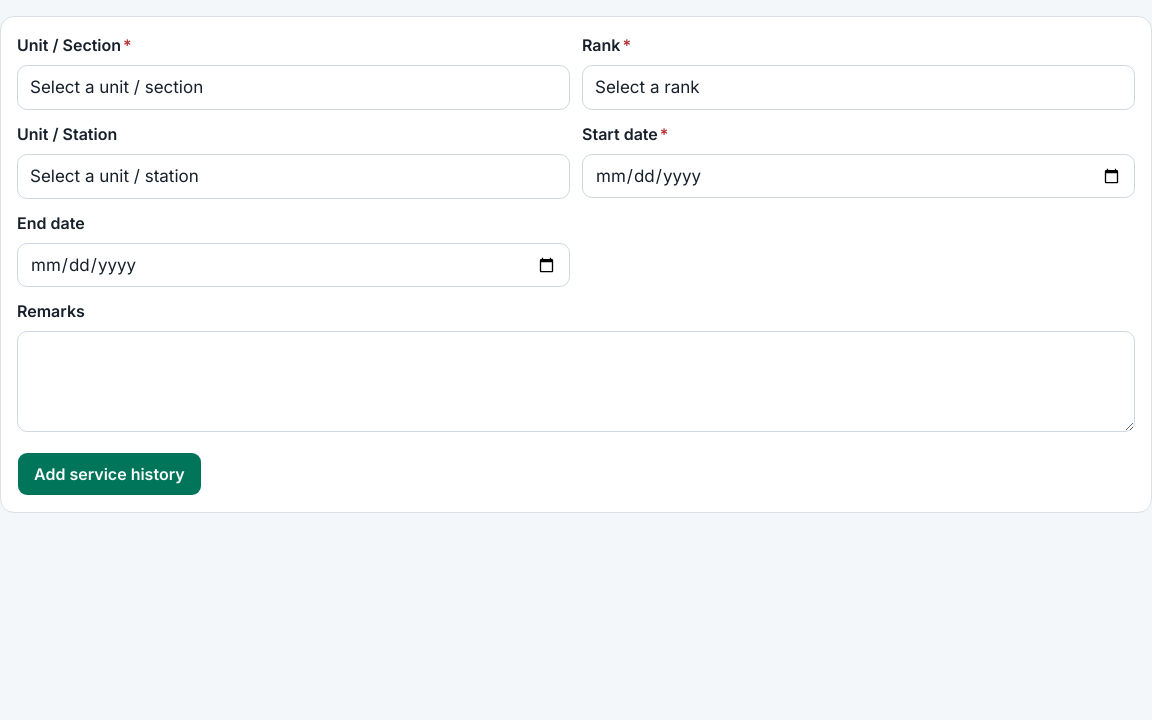
RecordEntryForm › records service history with a unit / section, a rank, and remarks
This screenshot has width=1152, height=720.
Select "Records" in the dropdown labelled "Unit / Section*" at (294, 88), box [17,65,570,110]
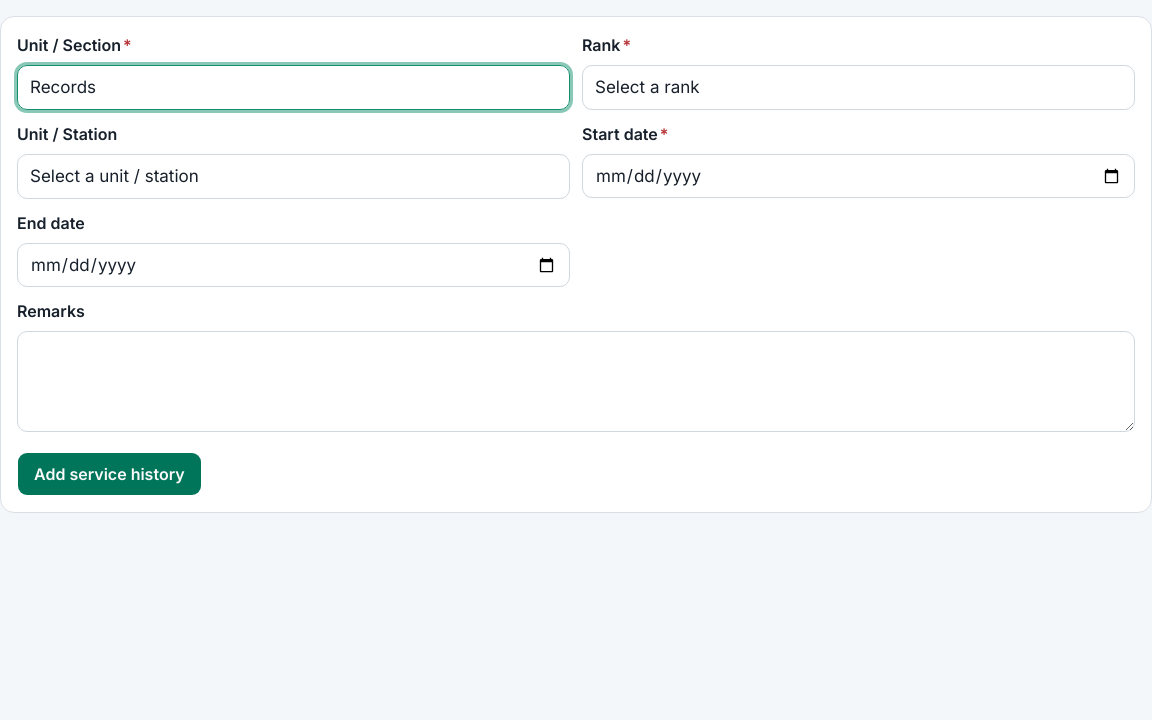
Select "PCPL — Police Corporal" in the dropdown labelled "Rank*" at (858, 88), box [582,65,1135,110]
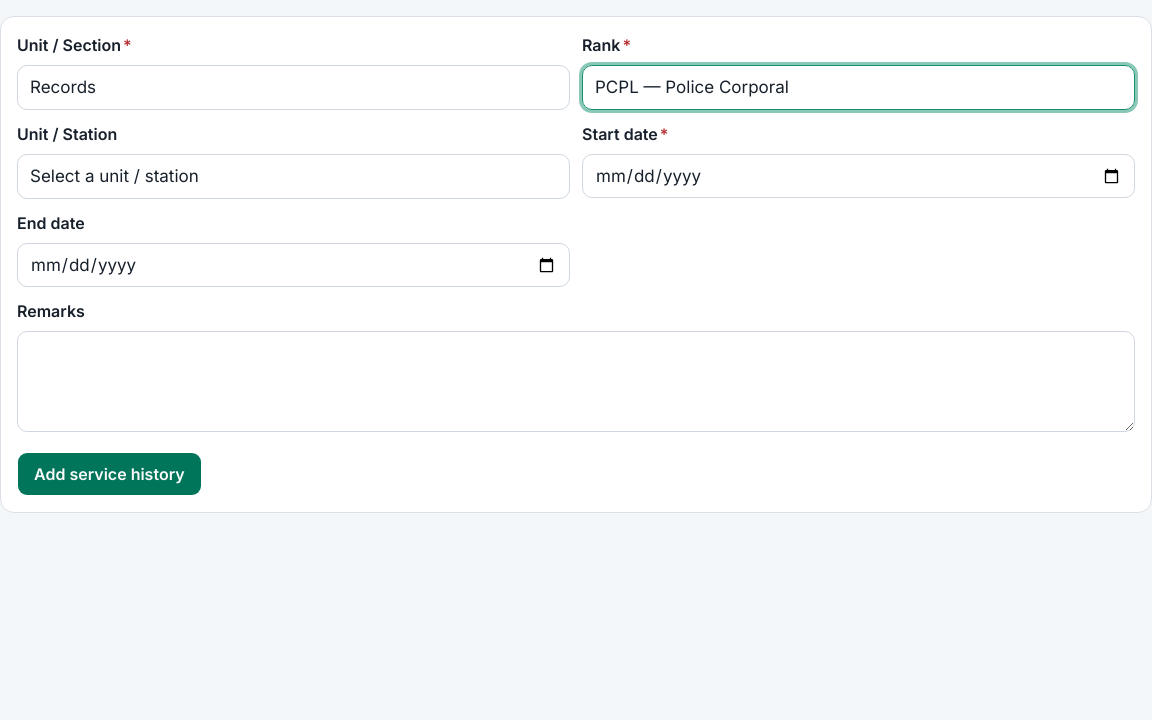
Type "2025-01-01" into the date field labelled "Start date*".
click(858, 176); type("2025-01-01")  # box [582,154,1135,198]
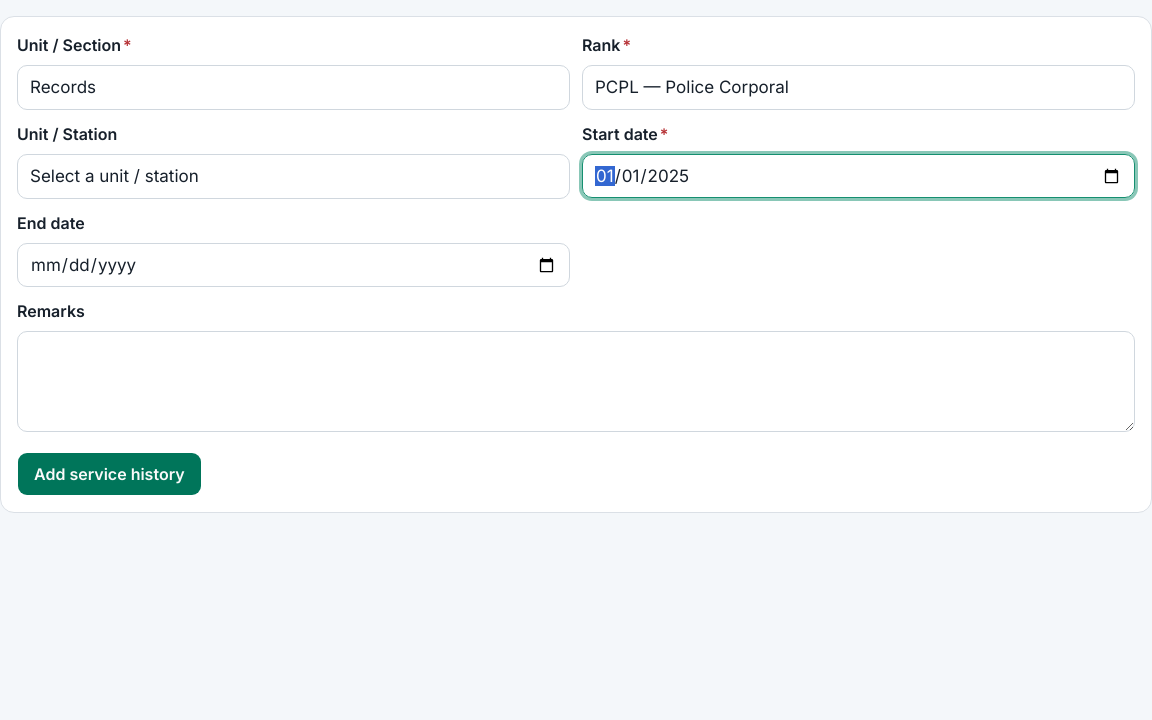
Type "Transferred" into the text box labelled "Remarks".
click(576, 382); type("Transferred")  # box [17,331,1135,432]
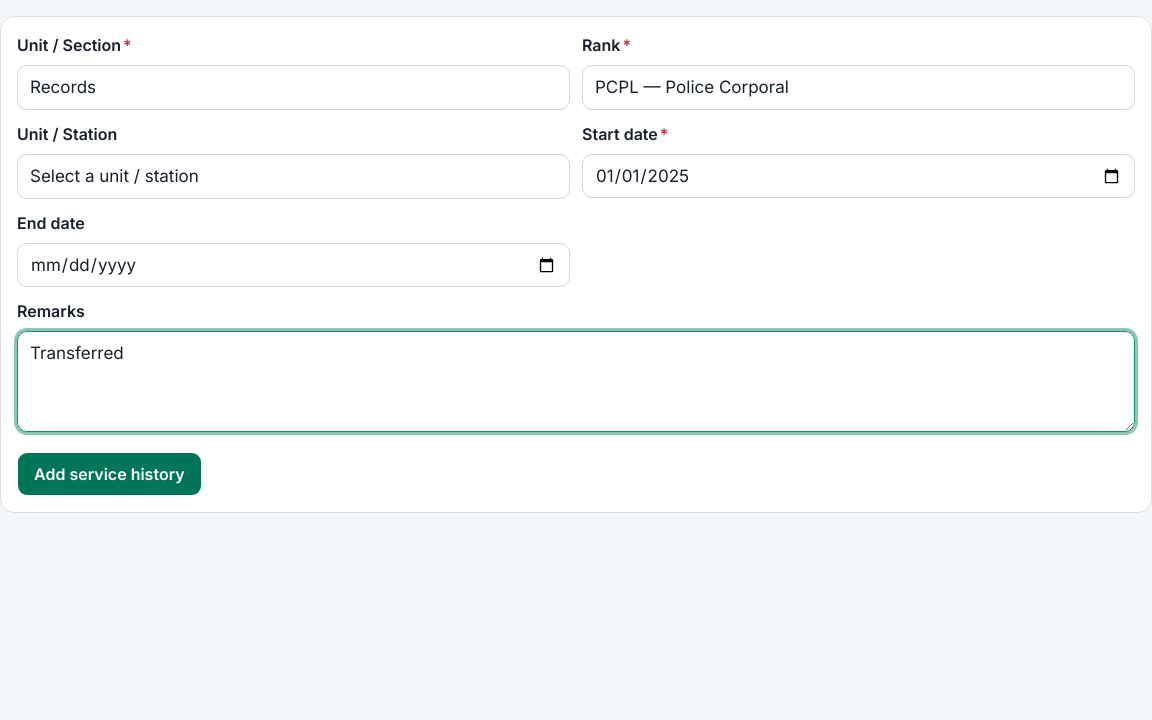
Click the button "Add service history".
click(109, 474)  # box [17,452,202,496]
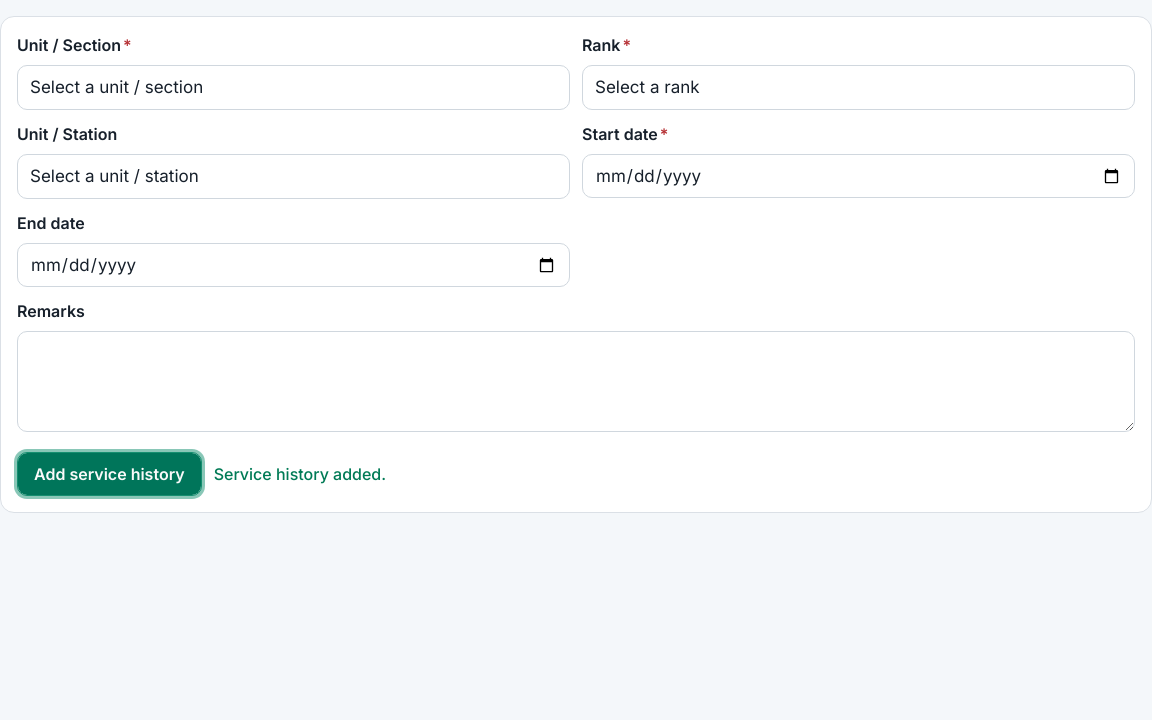
Expected: the message reads "Service history added.", [214,464,386,484]
